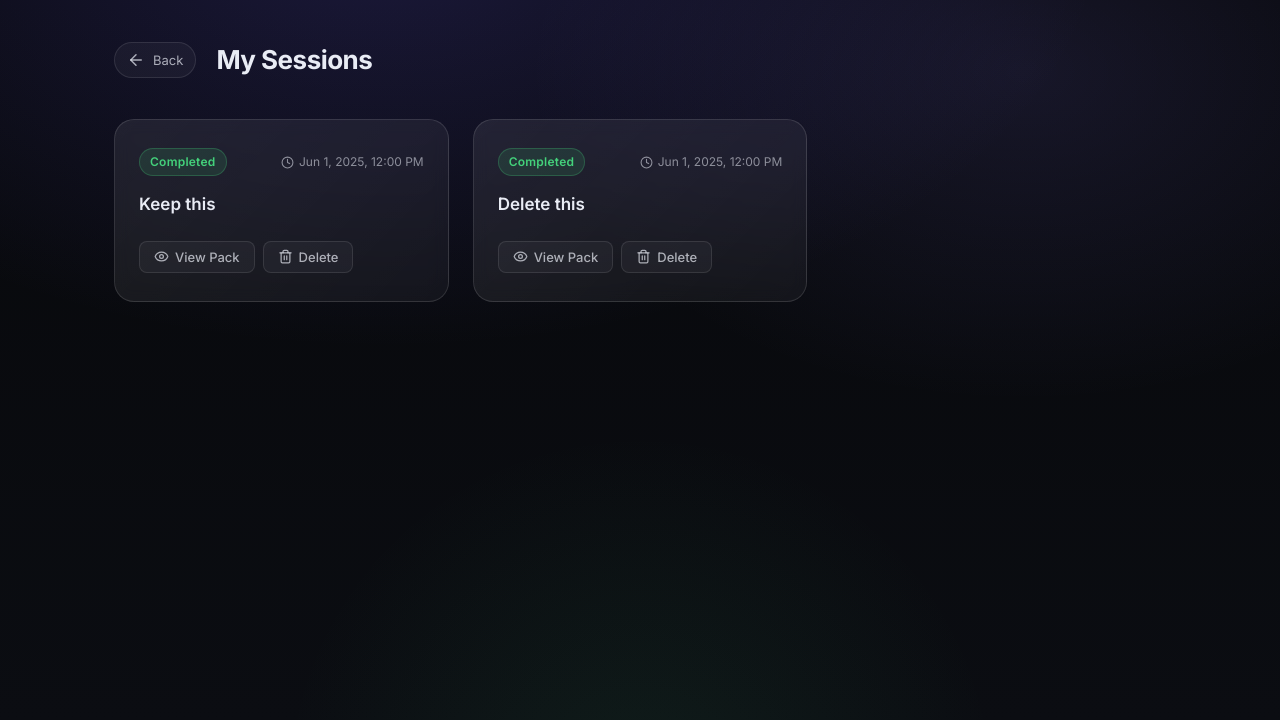
it: SessionHistory › deletes session after user confirms
expect the heading "Keep this" is shown: met, box [139,194,216,214]
Note: Click the second card's delete button
Click the button "Delete" below "Delete this". click: (667,257)
box: [621,241,712,273]
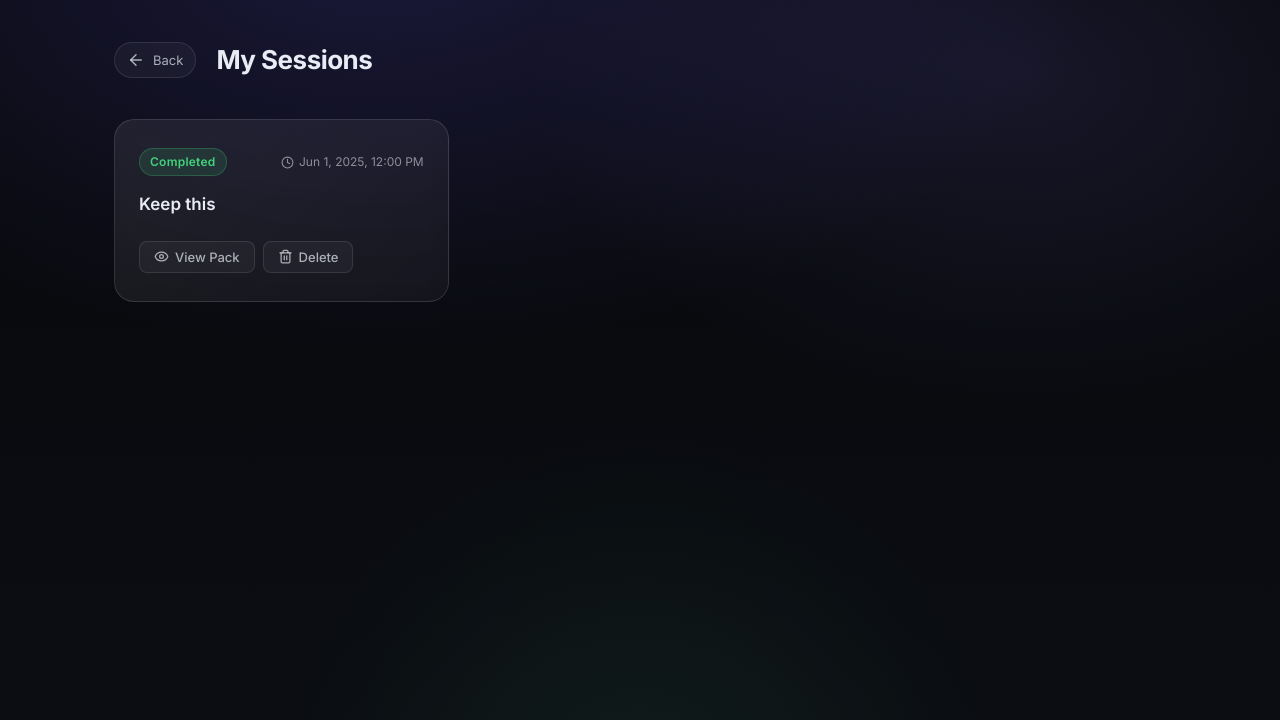
expect the heading "Keep this" is shown: met, box [139,194,216,214]
expect the heading "Delete this" is gone: met
